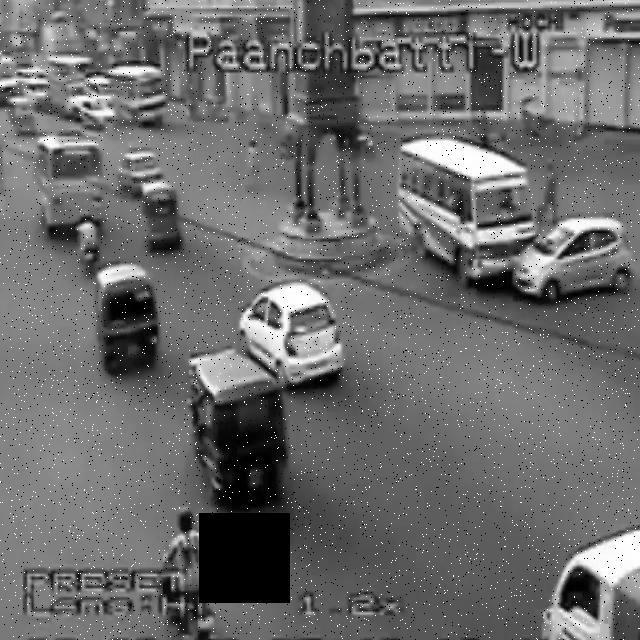vehicle: (378, 133, 640, 309)
